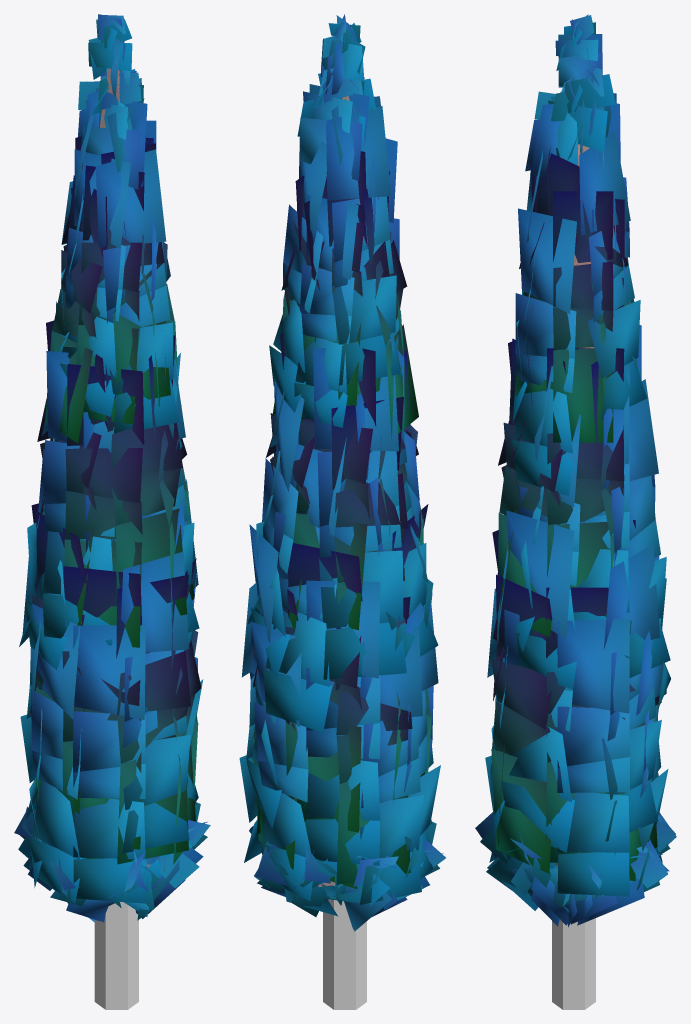
Rendered from cypress_tree.dae.
3 views of the same model, side by side, from view 1: azimuth 30°, elevation 25°; view 2: azimuth 150°, elevation 25°; view 3: azimuth 270°, elevation 25° (orthographic).
Parts seen in each view (by area): view 1: cypress_tree_a650, Colmesh-1; view 2: cypress_tree_a650, Colmesh-1; view 3: cypress_tree_a650, Colmesh-1.
Part boxes in pixels (x1=…): cypress_tree_a650: x1=14, y1=14, x2=210, y2=922; Colmesh-1: x1=94, y1=68, x2=150, y2=1009; cypress_tree_a650: x1=239, y1=14, x2=445, y2=931; Colmesh-1: x1=318, y1=96, x2=366, y2=1009; cypress_tree_a650: x1=475, y1=14, x2=676, y2=927; Colmesh-1: x1=552, y1=144, x2=595, y2=1009.
Size of the model in its own units: 1.25 by 1.33 by 7.14.
